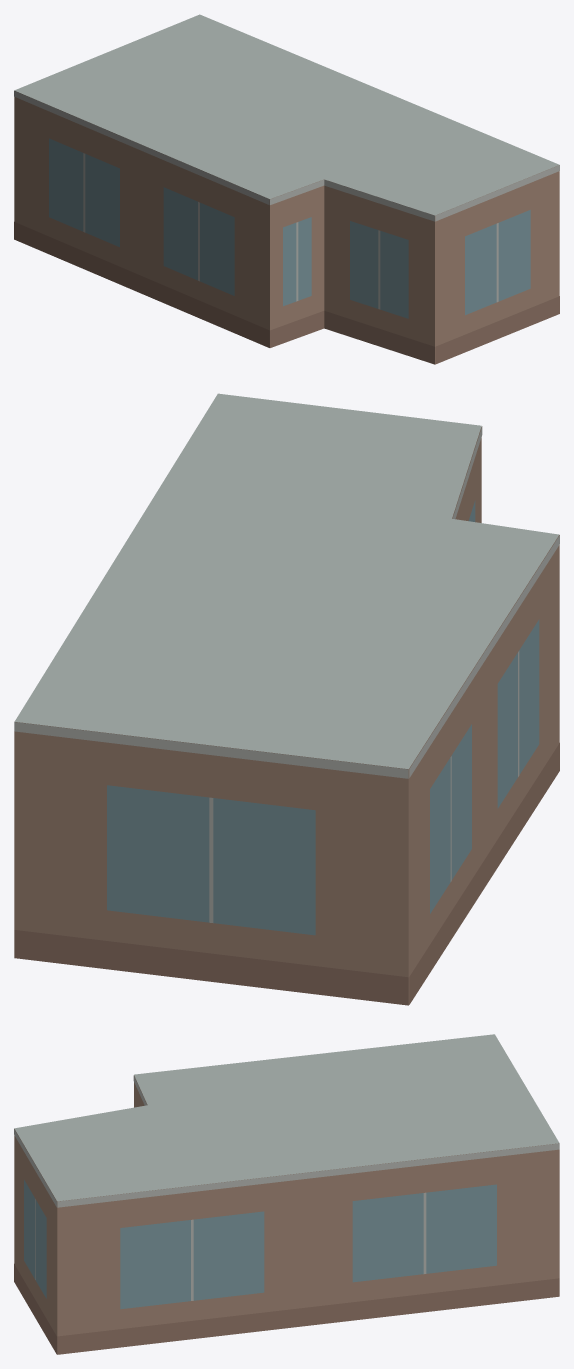
The model's file is survey-upis-32694392.glb.
3 renders of one model, top to bottom at view 1: azimuth 30°, elevation 25°; view 2: azimuth 150°, elevation 25°; view 3: azimuth 270°, elevation 25°, orthographic. The views are drawn at different scales.
Visible parts, largest first — view 1: survey-upis-32694392.tmp; view 2: survey-upis-32694392.tmp; view 3: survey-upis-32694392.tmp.
Part boxes in pixels (x1,y1,x2,y2): survey-upis-32694392.tmp: [14, 14, 559, 364]; survey-upis-32694392.tmp: [14, 393, 559, 1005]; survey-upis-32694392.tmp: [14, 1034, 559, 1354].
Size of the model in its own units: 7.15 by 3.05 by 9.85.
